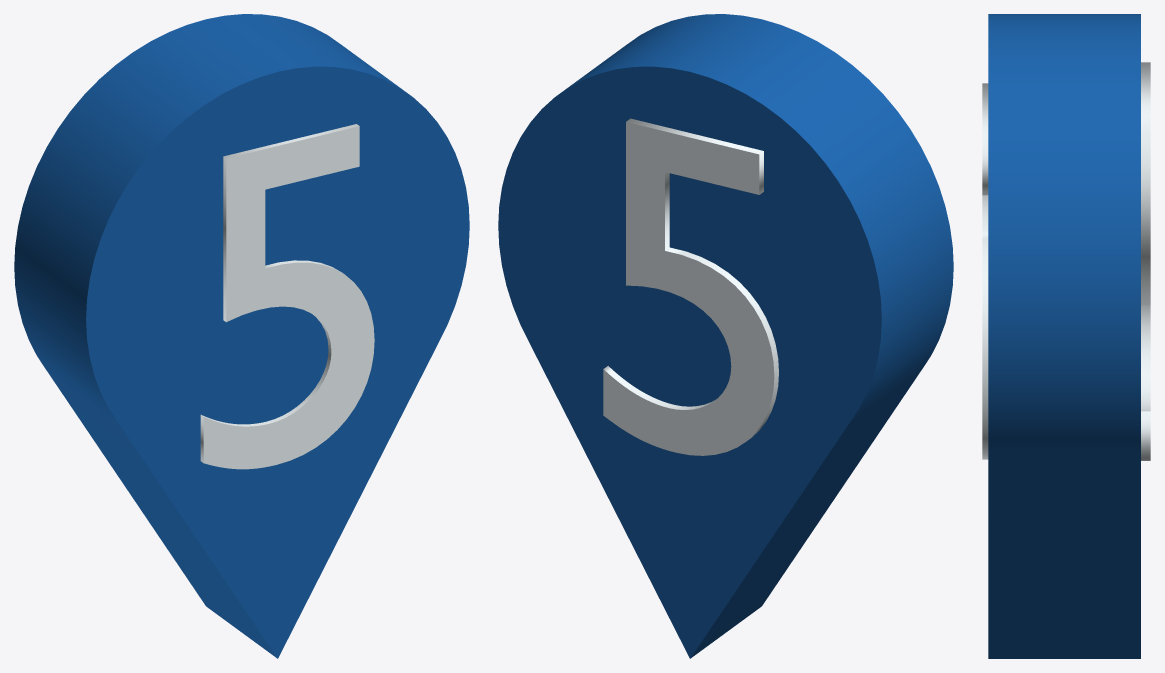
Rendered from taiku_m_pin.glb.
3 views of the same model, side by side, from view 1: azimuth 30°, elevation 25°; view 2: azimuth 150°, elevation 25°; view 3: azimuth 270°, elevation 25° (orthographic). The views are drawn at different scales.
Parts seen in each view (by area): view 1: 円.017, テキスト.042; view 2: 円.017, テキスト.040; view 3: 円.017, テキスト.040, テキスト.042.
Part boxes in pixels (bbox=[...]): 円.017: bbox=[14, 14, 469, 658]; テキスト.042: bbox=[200, 124, 374, 469]; 円.017: bbox=[498, 14, 953, 658]; テキスト.040: bbox=[603, 118, 778, 455]; 円.017: bbox=[988, 14, 1140, 658]; テキスト.040: bbox=[1141, 62, 1150, 460]; テキスト.042: bbox=[982, 83, 988, 459].
Size of the model in its own units: 2 by 2.92 by 0.7172.
Materials: 3 (3 with a texture image).
